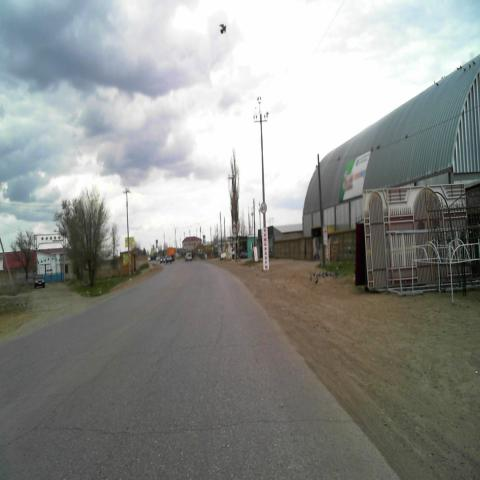3_24: (261, 202, 267, 214)
